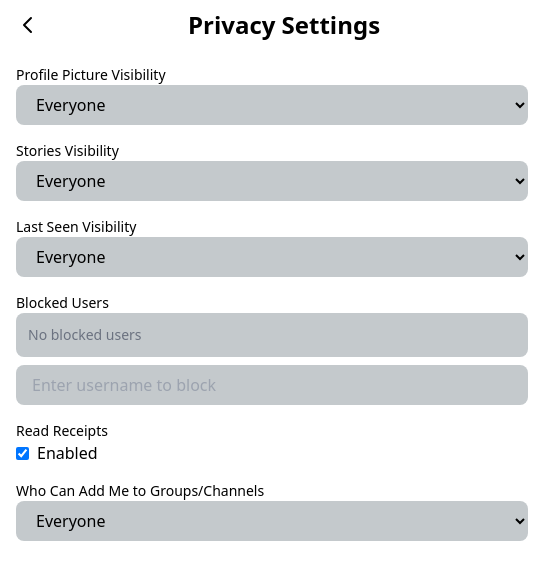
Scenario: PrivacySettings Component › handles blocking and unblocking users
Expected: the text "No blocked users" is shown, [28, 325, 142, 344]
Block a user
Type "testuser" into the field with test id "block-user-input" at (272, 385), box [16, 365, 528, 405]
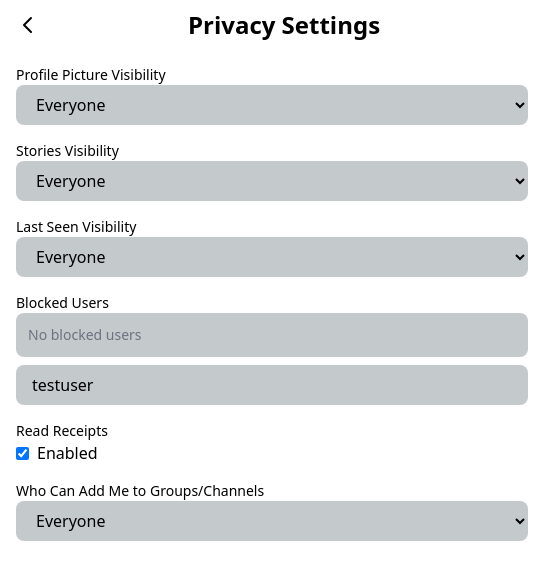
Press Enter in the field with test id "block-user-input", box [16, 365, 528, 405]
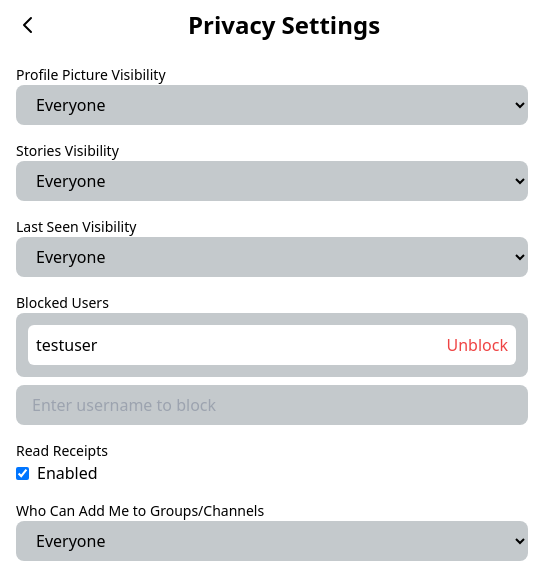
Result: the text "testuser" is shown at [36, 333, 97, 357]
Unblock the user
Click the button with test id "unblock-user-0" at (477, 345), box [446, 333, 508, 357]
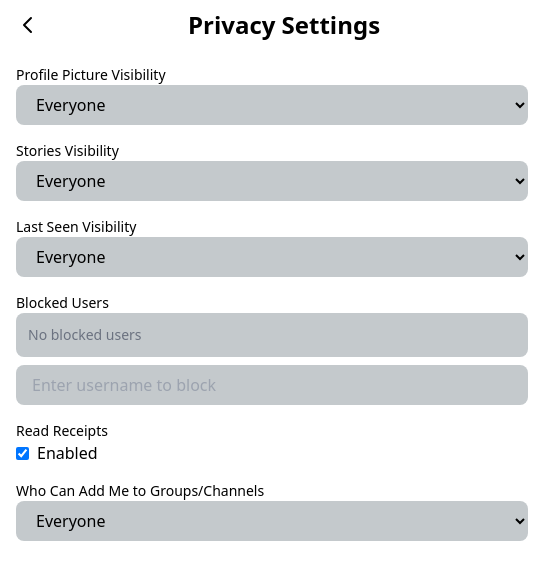
Result: the text "No blocked users" is shown at [28, 325, 142, 344]
